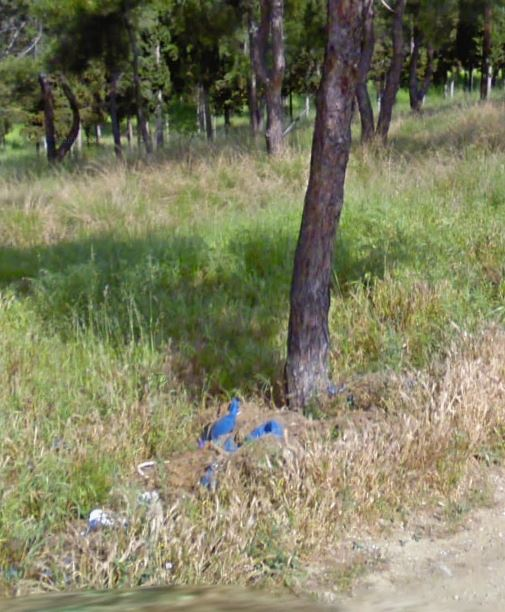trash: (191, 392, 284, 490), (77, 498, 117, 542), (125, 445, 171, 483)
